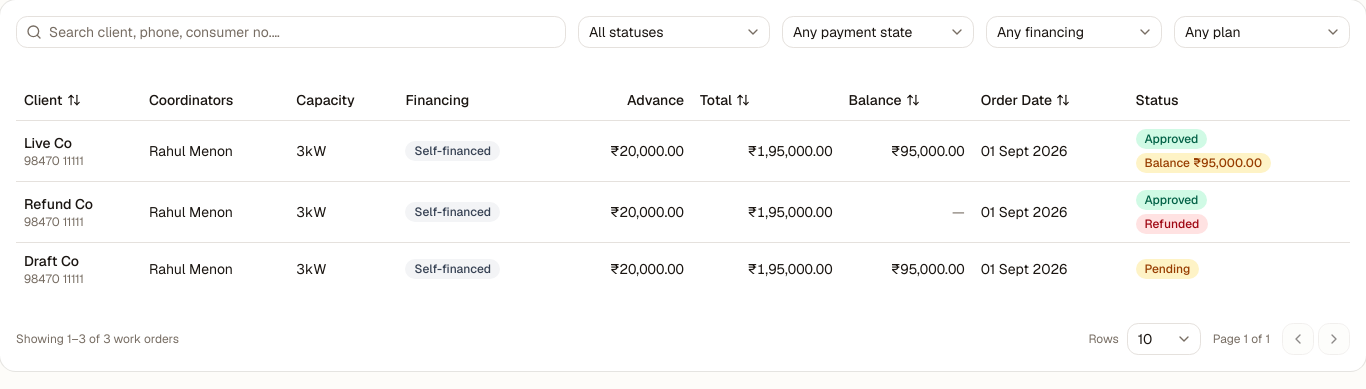
Test: WorkOrdersTable — filters › Approved (active) leaves out a refunded sale; Refunded finds it
The width and height of the screenshot is (1366, 389).
Click the dropdown labelled "All statuses" at coordinates (674, 32), box [578, 16, 770, 48]
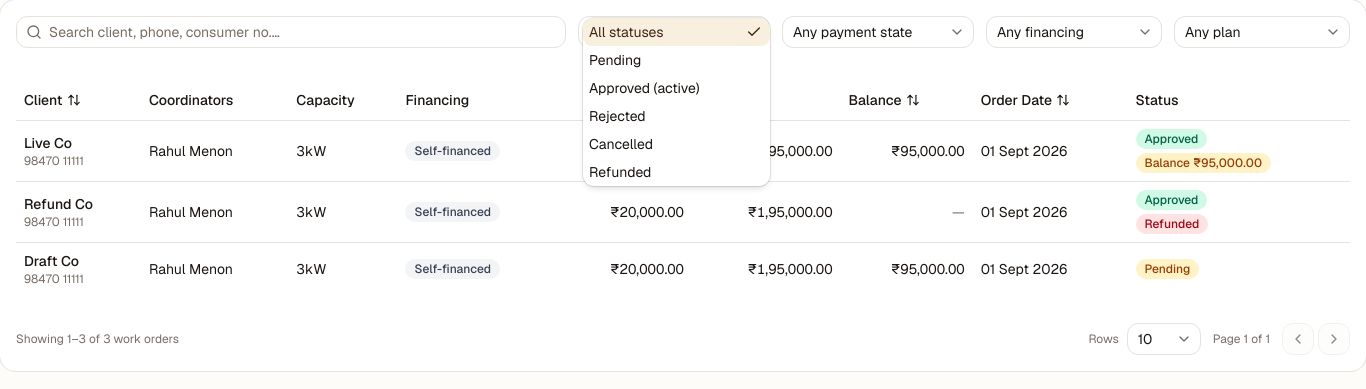
Click the option "Approved (active)" at coordinates (644, 88), box [589, 79, 700, 97]
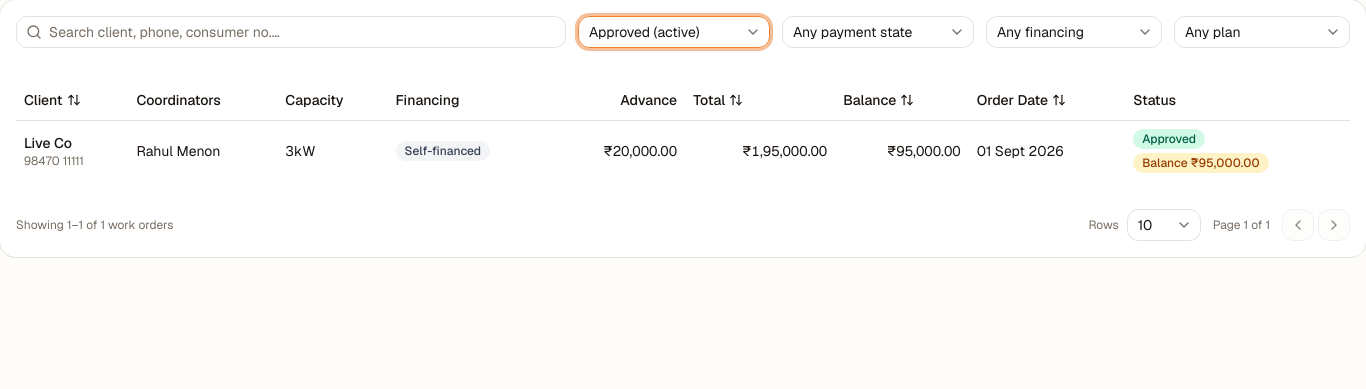
Expected: the row that starts with "Live Co" is shown, [24, 134, 72, 152]
Expected: the text "Refund Co" is gone
Expected: the text "Draft Co" is gone
Click the dropdown labelled "Approved (active)" at coordinates (674, 32), box [578, 16, 770, 48]
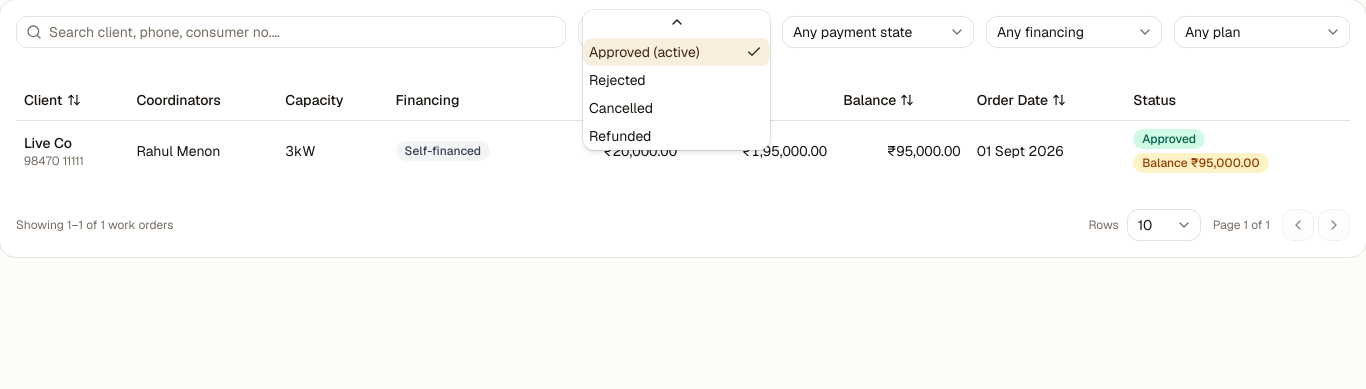
Click the option "Refunded" at coordinates (620, 136), box [589, 127, 652, 145]
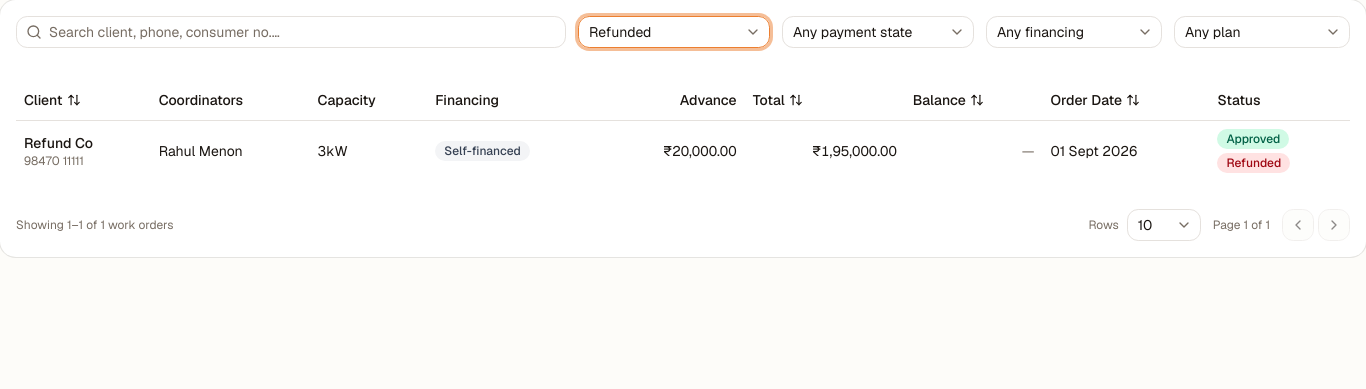
Expected: the row that starts with "Refund Co" is shown, [24, 134, 93, 152]
